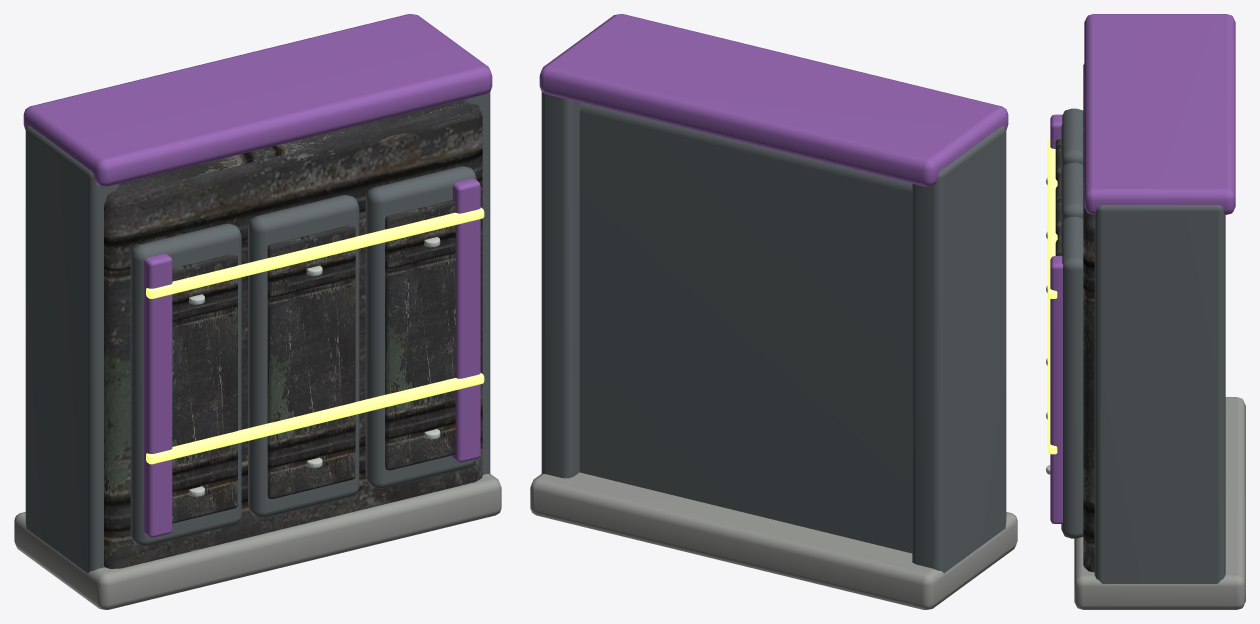
The model's file is wall_l04-2.glb.
3 renders of one model, left to right at view 1: azimuth 30°, elevation 25°; view 2: azimuth 150°, elevation 25°; view 3: azimuth 270°, elevation 25°, orthographic. The views are drawn at different scales.
Parts seen in each view (by area): view 1: DZN_wall_L04; view 2: DZN_wall_L04; view 3: DZN_wall_L04.
Part boxes in pixels (bbox=[...]): DZN_wall_L04: bbox=[14, 14, 501, 609]; DZN_wall_L04: bbox=[530, 14, 1017, 609]; DZN_wall_L04: bbox=[1046, 14, 1245, 609].
Size of the model in its own units: 1.94 by 2.05 by 0.8841.
6 materials, 1 textured.
